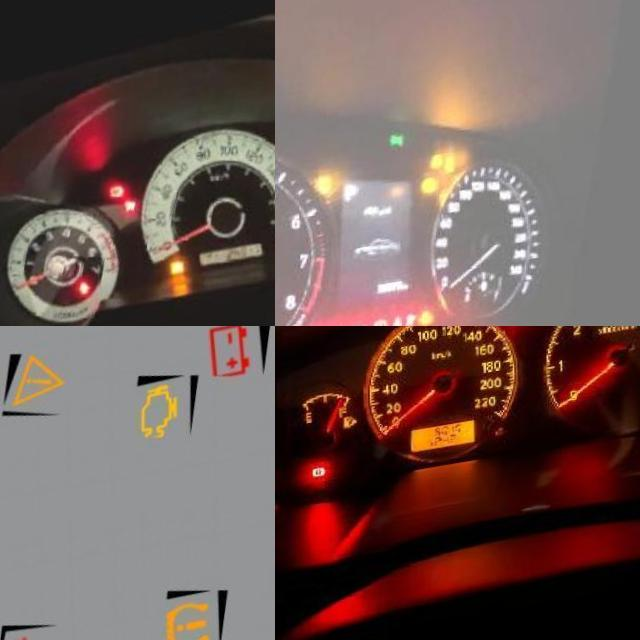Seat Belt: (397, 319, 411, 326)
